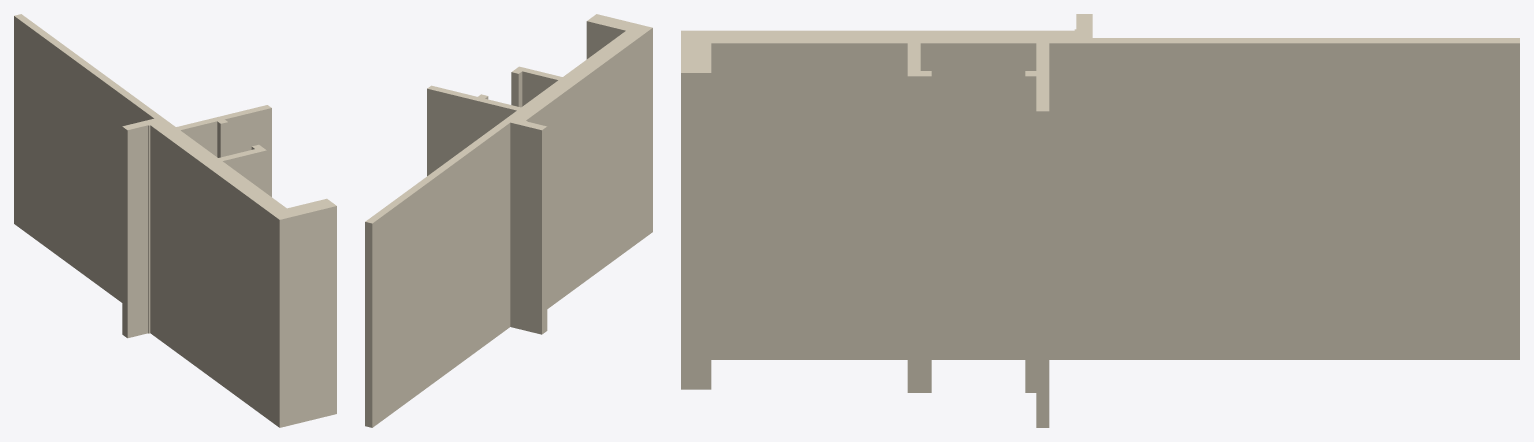
The picture shows the model from 3 angles, left to right: view 1: azimuth 30°, elevation 25°; view 2: azimuth 150°, elevation 25°; view 3: azimuth 270°, elevation 25°; orthographic projection. The views are drawn at different scales.
Parts seen in each view (by area): view 1: A-FF-WALL-017; view 2: A-FF-WALL-017; view 3: A-FF-WALL-017.
Part boxes in pixels (box(x1,y1,x2,y2)): A-FF-WALL-017: box(14, 14, 336, 427); A-FF-WALL-017: box(365, 14, 652, 427); A-FF-WALL-017: box(681, 14, 1519, 427).
Size of the model in its own units: 1.6 by 2.42 by 5.81.
